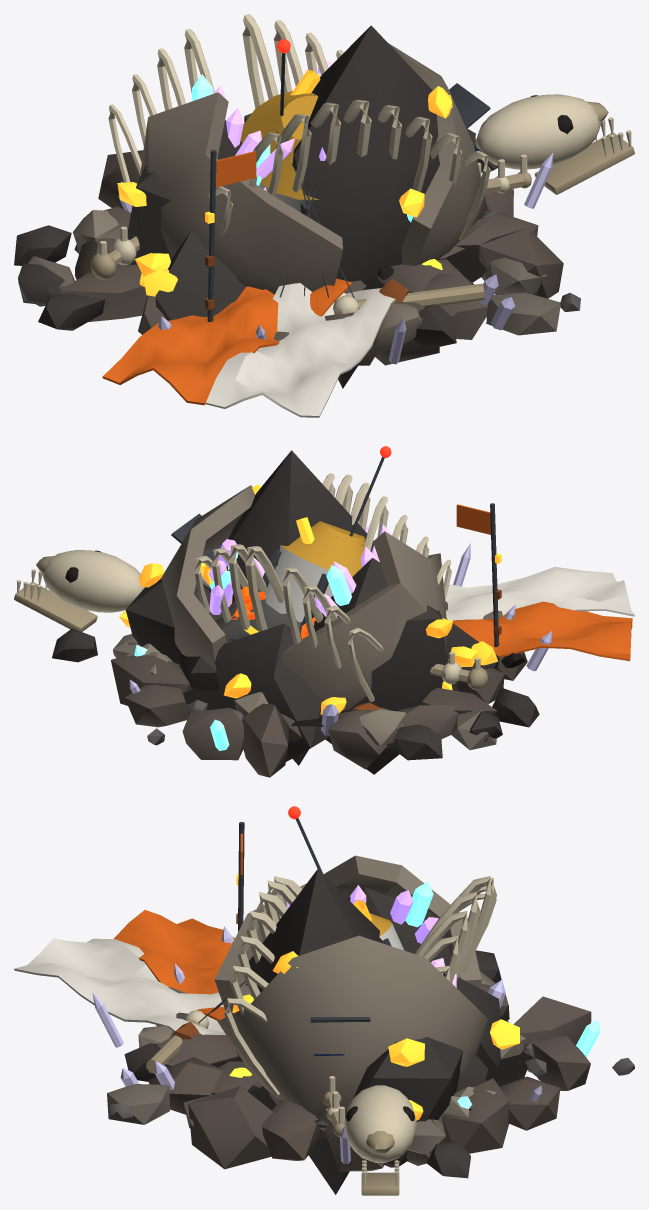
Rendered from deposits.glb.
3 views of the same model, one above another, from view 1: azimuth 30°, elevation 25°; view 2: azimuth 150°, elevation 25°; view 3: azimuth 270°, elevation 25° (orthographic). The views are drawn at different scales.
Parts seen in each view (by area): view 1: VeinRock, FossilBones, GeodeRock, ProbeWreck, MeteoriteRock; view 2: VeinRock, GeodeRock, FossilBones, ProbeWreck, MeteoriteRock; view 3: GeodeRock, MeteoriteRock, VeinRock, FossilBones, ProbeWreck.
Boxes of the visible parts, <box> form: VeinRock: <box>14,25,497,388</box>; FossilBones: <box>18,14,634,340</box>; GeodeRock: <box>73,43,553,364</box>; ProbeWreck: <box>102,39,490,417</box>; MeteoriteRock: <box>60,150,580,365</box>; VeinRock: <box>52,450,539,774</box>; GeodeRock: <box>125,485,552,750</box>; FossilBones: <box>14,473,502,750</box>; ProbeWreck: <box>171,446,634,740</box>; MeteoriteRock: <box>111,586,527,777</box>; GeodeRock: <box>92,855,600,1163</box>; MeteoriteRock: <box>109,983,634,1171</box>; VeinRock: <box>124,822,519,1194</box>; FossilBones: <box>107,876,496,1195</box>; ProbeWreck: <box>14,806,405,1138</box>.
Bounding box in the file's own units: 6.09 × 3.59 × 5.73.
